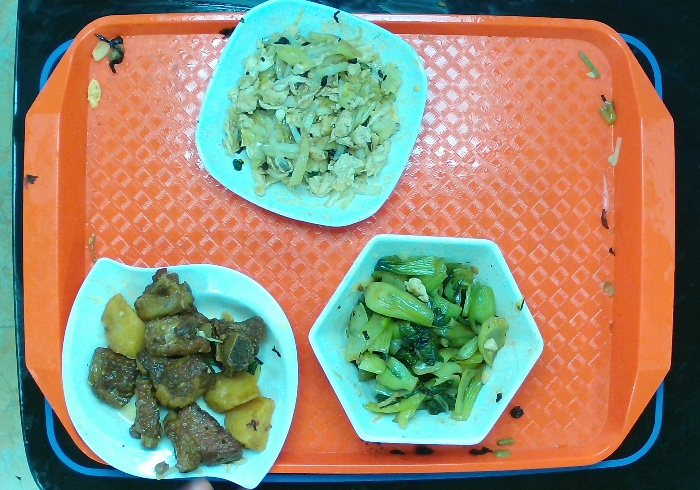RJxy-Liu_Jiao_Wan: (308, 225, 548, 451)
RJxy-Shuang_Jiao_Pan: (57, 252, 300, 490)
RJxy-Si_Fang_Wan: (192, 2, 429, 225)
